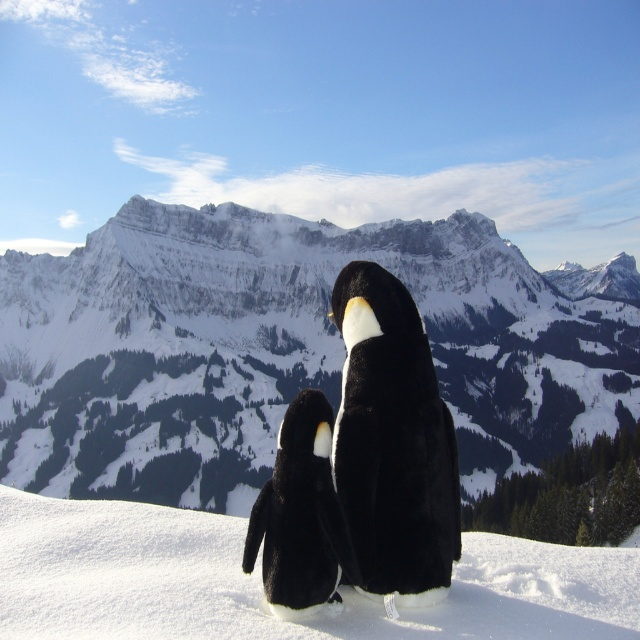Penguin: (326, 253, 464, 610), (242, 391, 339, 628)
